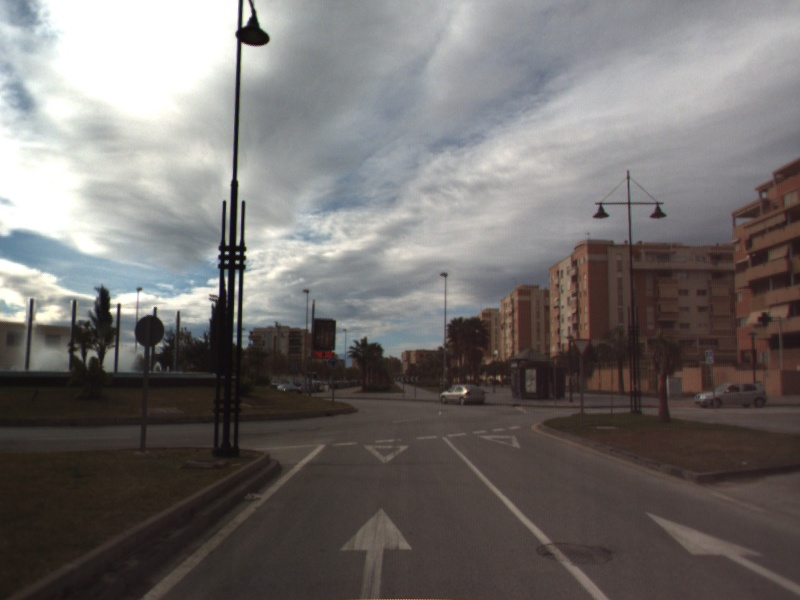STRAIGHT: (643, 510, 800, 597), (337, 505, 414, 600)
